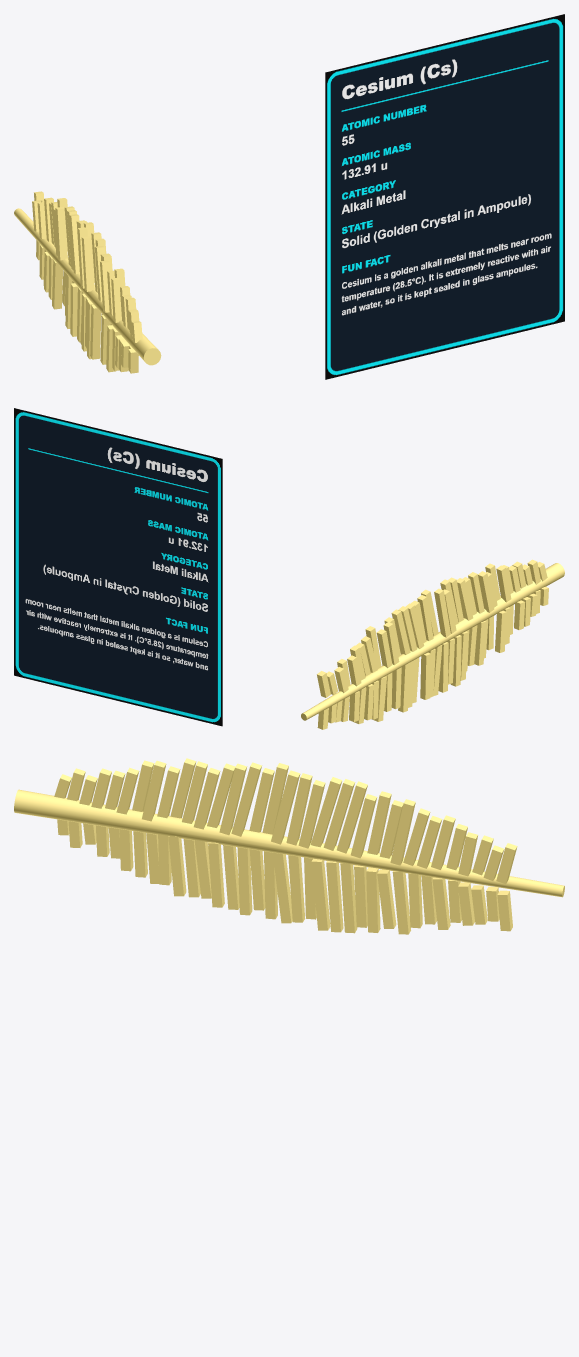
The model's file is cesium.glb.
3 renders of one model, top to bottom at view 1: azimuth 30°, elevation 25°; view 2: azimuth 150°, elevation 25°; view 3: azimuth 270°, elevation 25°, orthographic. The views are drawn at different scales.
Visible parts, largest first — view 1: Mesh_40, Mesh_3, Mesh_19, Mesh_17.001, Mesh_28, Mesh_30.001; view 2: Mesh_40, Mesh_3, Mesh_20, Mesh_23.001, Mesh_26, Mesh_11.001, Mesh_26.001, Mesh_20.001, Mesh_14.001, Mesh_13; view 3: Mesh_3, Mesh_24.001, Mesh_25.001, Mesh_21.001, Mesh_26.001, Mesh_18, Mesh_21, Mesh_22.001, Mesh_18.001, Mesh_22, Mesh_26, Mesh_17 (+25 smaller).
Boxes of the visible parts, x1,y1,x2,y2 form: Mesh_40: (325,14,564,379); Mesh_3: (14,208,161,365); Mesh_19: (81,236,94,291); Mesh_17.001: (90,304,101,359); Mesh_28: (55,207,67,260); Mesh_30.001: (52,259,62,309); Mesh_40: (14,408,222,726); Mesh_3: (301,563,564,720); Mesh_20: (434,588,450,637); Mesh_23.001: (420,652,431,699); Mesh_26: (391,609,410,654); Mesh_11.001: (495,610,506,652); Mesh_26.001: (398,662,410,712); Mesh_20.001: (438,642,448,692); Mesh_14.001: (474,621,486,665); Mesh_13: (478,571,494,612); Mesh_3: (14,789,564,897); Mesh_24.001: (311,858,330,930); Mesh_25.001: (326,861,343,932); Mesh_21.001: (272,852,292,923); Mesh_26.001: (340,863,357,933); Mesh_18: (231,762,261,836); Mesh_21: (271,770,300,844); Mesh_22.001: (288,855,305,922); Mesh_18.001: (237,847,252,915); Mesh_22: (286,773,312,845); Mesh_26: (336,781,367,853); Mesh_17: (219,763,247,835).
Bounding box in the file's own units: 2.37 × 1.32 × 1.68.
2 materials, 1 textured.
